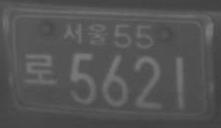1: (167, 54, 194, 113)
2: (131, 53, 164, 111)
5: (67, 51, 97, 106), (111, 21, 133, 50), (133, 22, 154, 50)
6: (100, 52, 130, 109)
로: (22, 51, 59, 87)
서울_O: (62, 21, 110, 49)
